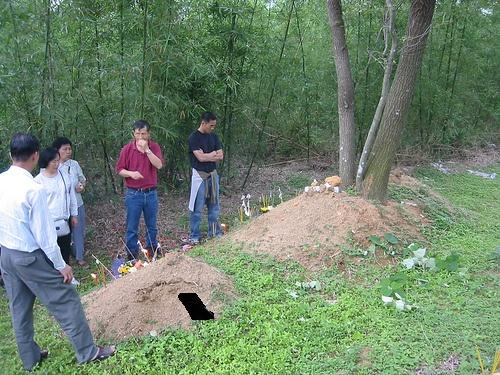tampered: (179, 294, 214, 320)
